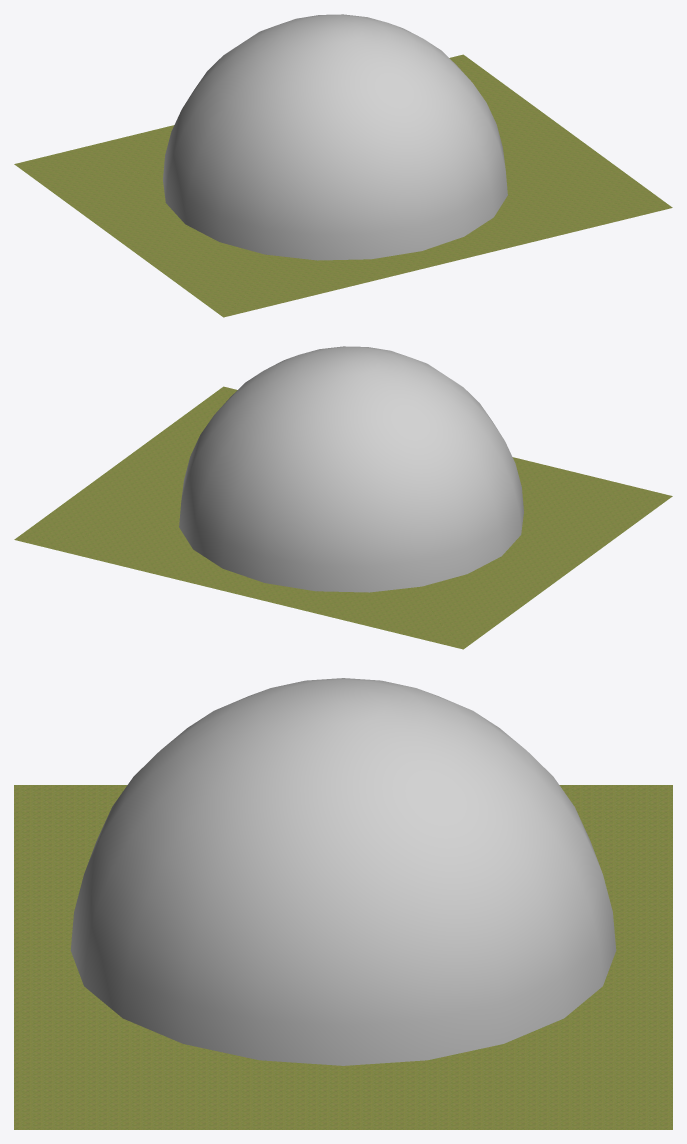
The model's file is M4_Environment_01.dae.
3 views of the same model, one above another, from view 1: azimuth 30°, elevation 25°; view 2: azimuth 150°, elevation 25°; view 3: azimuth 270°, elevation 25° (orthographic). The views are drawn at different scales.
Visible parts, largest first — view 1: sky, grass; view 2: sky, grass; view 3: sky, grass.
Part boxes in pixels (x1,y1,x2,y2): sky: (163,14,507,260); grass: (14,54,672,317); sky: (179,346,523,592); grass: (14,386,672,649); sky: (70,678,616,1065); grass: (14,785,672,1129).
Size of the model in its own units: 457 by 154 by 369.
